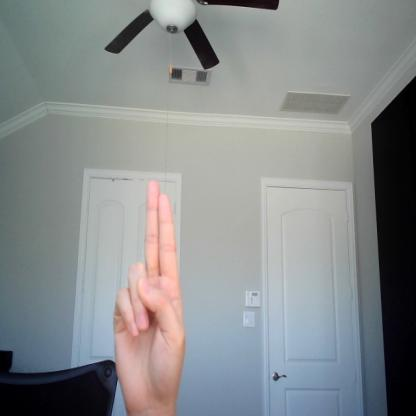U: (111, 179, 187, 415)
